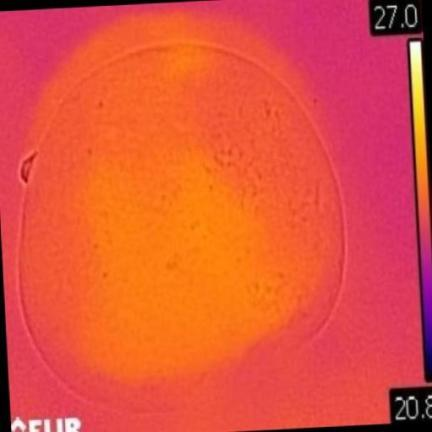mango: (17, 48, 341, 388)
